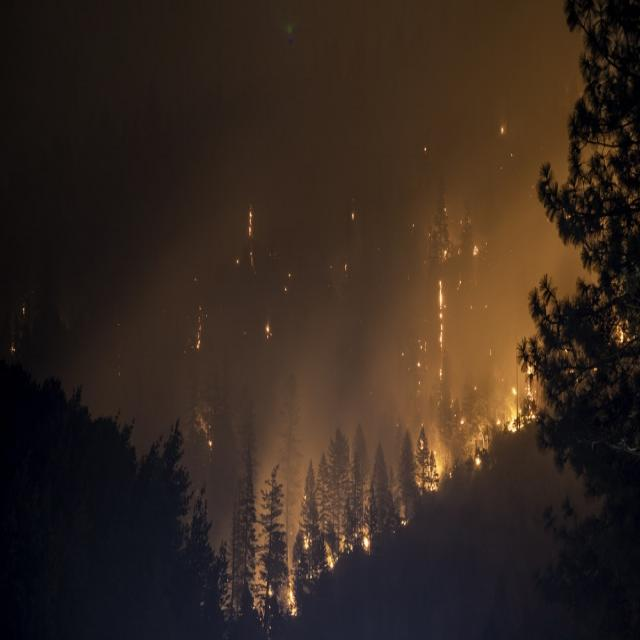fire: (402, 370, 534, 499), (305, 512, 373, 578), (284, 580, 303, 624)
